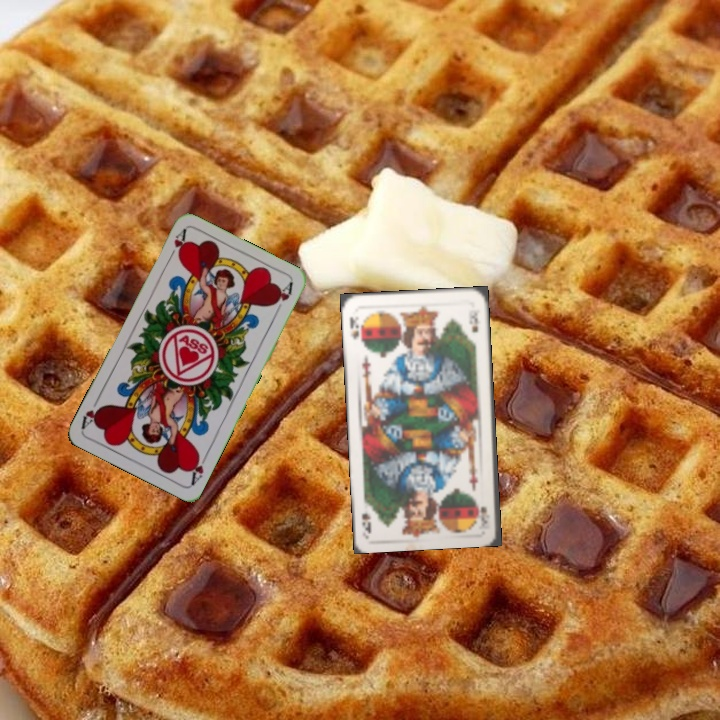HA: (186, 448, 211, 487), (164, 226, 189, 264)
SK: (346, 313, 365, 344), (476, 502, 492, 528)
